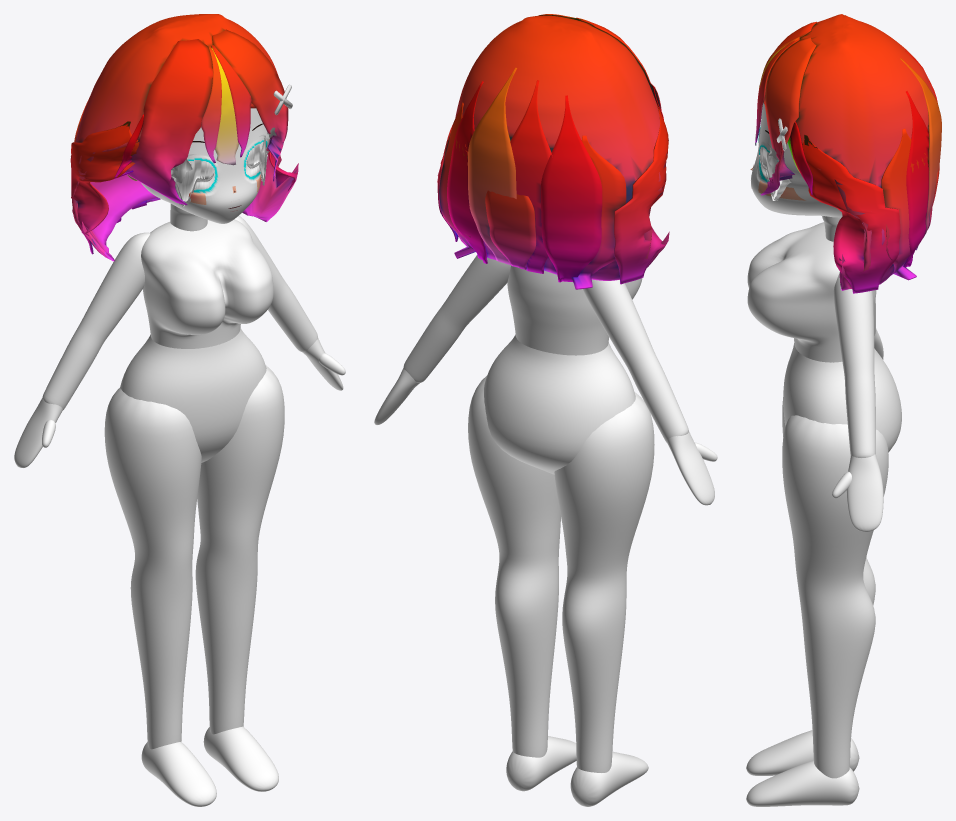
File: MG_ToonTest_01_v6i_eye.fbx
3 renders of one model, left to right at view 1: azimuth 30°, elevation 25°; view 2: azimuth 150°, elevation 25°; view 3: azimuth 270°, elevation 25°, orthographic. The views are drawn at different scales.
Parts seen in each view (by area): view 1: Blockout_Leg.R, Blockout_Leg.L, hair_bob_01__Bangs, Blockout_Torso, hair_bob_01__Volume, Blockout_Pelvis, Blockout_Arm.R, Blockout_Head, hair_bob_01__Side_R, Blockout_Foot.R, Blockout_Foot.L, Blockout_Arm.L (+4 smaller); view 2: Blockout_Leg.R, hair_bob_01__Back, hair_bob_01__Volume, Blockout_Leg.L, Blockout_Pelvis, hair_bob_01__Side_R, Blockout_Torso, Blockout_Arm.R, Blockout_Arm.L, Blockout_Foot.R, Blockout_Foot.L, Blockout_Hand.R (+2 smaller); view 3: Blockout_Leg.L, hair_bob_01__Volume, hair_bob_01__Side_L, Blockout_Torso, Blockout_Pelvis, Blockout_Arm.L, hair_bob_01__Bangs, hair_bob_01__Back, Blockout_Foot.L, Blockout_Hand.L, Blockout_Head, Blockout_Foot.R (+3 smaller).
Boxes of the visible parts, x1=… form: Blockout_Leg.R: x1=104, y1=388, x2=201, y2=749; Blockout_Leg.L: x1=195, y1=365, x2=284, y2=734; hair_bob_01__Bangs: x1=125, y1=29, x2=288, y2=205; Blockout_Torso: x1=141, y1=219, x2=273, y2=348; hair_bob_01__Volume: x1=72, y1=14, x2=298, y2=261; Blockout_Pelvis: x1=120, y1=328, x2=266, y2=462; Blockout_Arm.R: x1=42, y1=232, x2=150, y2=409; Blockout_Head: x1=141, y1=108, x2=269, y2=223; hair_bob_01__Side_R: x1=70, y1=81, x2=139, y2=254; Blockout_Foot.R: x1=141, y1=742, x2=216, y2=806; Blockout_Foot.L: x1=203, y1=726, x2=278, y2=791; Blockout_Arm.L: x1=235, y1=216, x2=317, y2=352; Blockout_Leg.R: x1=554, y1=392, x2=654, y2=772; hair_bob_01__Back: x1=447, y1=67, x2=602, y2=282; hair_bob_01__Volume: x1=437, y1=15, x2=669, y2=280; Blockout_Leg.L: x1=468, y1=376, x2=560, y2=757; Blockout_Pelvis: x1=484, y1=334, x2=635, y2=474; hair_bob_01__Side_R: x1=571, y1=102, x2=668, y2=289; Blockout_Torso: x1=507, y1=265, x2=642, y2=355; Blockout_Arm.R: x1=582, y1=279, x2=688, y2=442; Blockout_Arm.L: x1=403, y1=255, x2=510, y2=382; Blockout_Foot.R: x1=570, y1=751, x2=648, y2=806; Blockout_Foot.L: x1=506, y1=736, x2=576, y2=791; Blockout_Hand.R: x1=667, y1=431, x2=717, y2=505; Blockout_Leg.L: x1=782, y1=415, x2=888, y2=778; hair_bob_01__Volume: x1=763, y1=14, x2=935, y2=290; hair_bob_01__Side_L: x1=792, y1=128, x2=928, y2=293; Blockout_Torso: x1=747, y1=222, x2=876, y2=362; Blockout_Pelvis: x1=783, y1=343, x2=901, y2=452; Blockout_Arm.L: x1=833, y1=272, x2=875, y2=457; hair_bob_01__Bangs: x1=755, y1=21, x2=817, y2=195; hair_bob_01__Back: x1=900, y1=51, x2=941, y2=267; Blockout_Foot.L: x1=746, y1=760, x2=859, y2=806; Blockout_Hand.L: x1=832, y1=454, x2=883, y2=532; Blockout_Head: x1=751, y1=103, x2=842, y2=217; Blockout_Foot.R: x1=746, y1=730, x2=859, y2=775.
Size of the model in its own units: 74.75 by 165 by 38.63.
